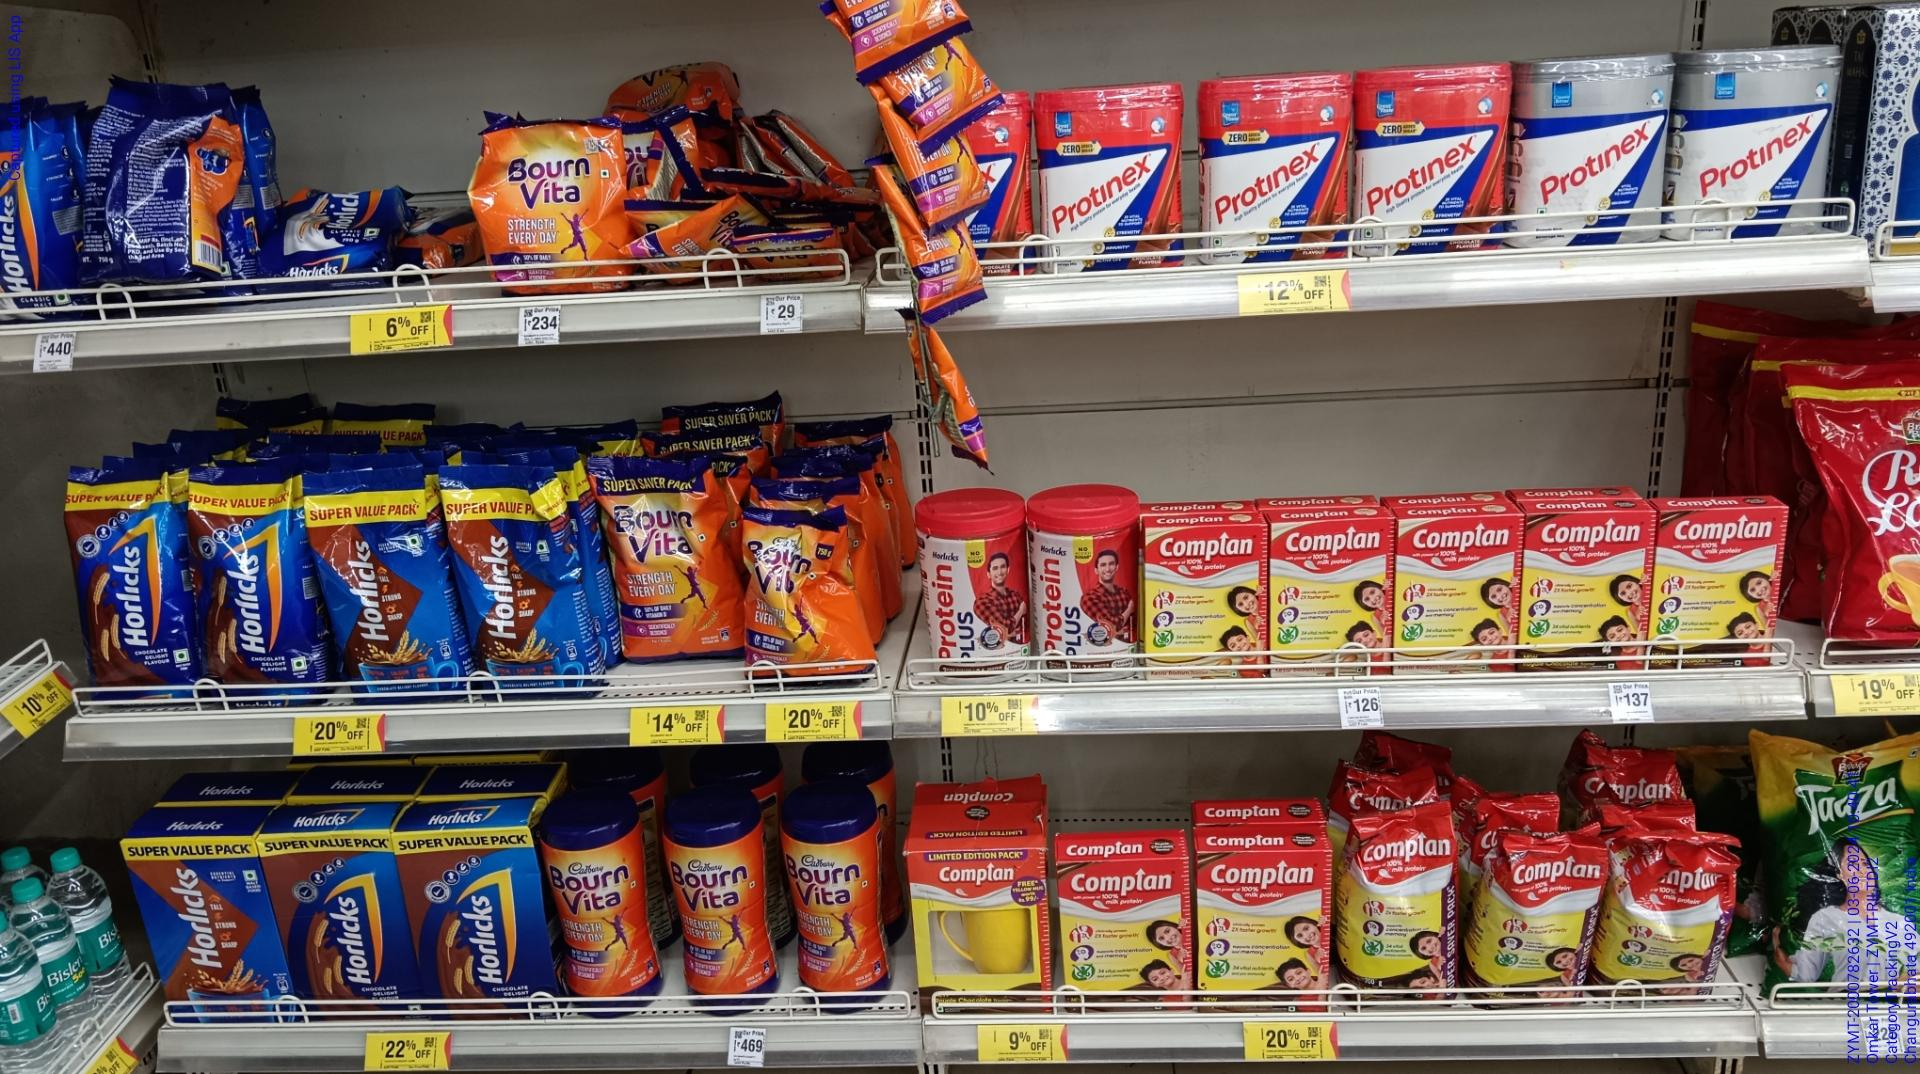PROTINEX_CHOCOLATE_400_G_JAR: (1035, 79, 1188, 270), (1197, 74, 1352, 261), (1364, 63, 1507, 255)
PROTINEX_ORIGINAL_400_G_JAR: (1683, 46, 1836, 237), (1522, 59, 1669, 240)
